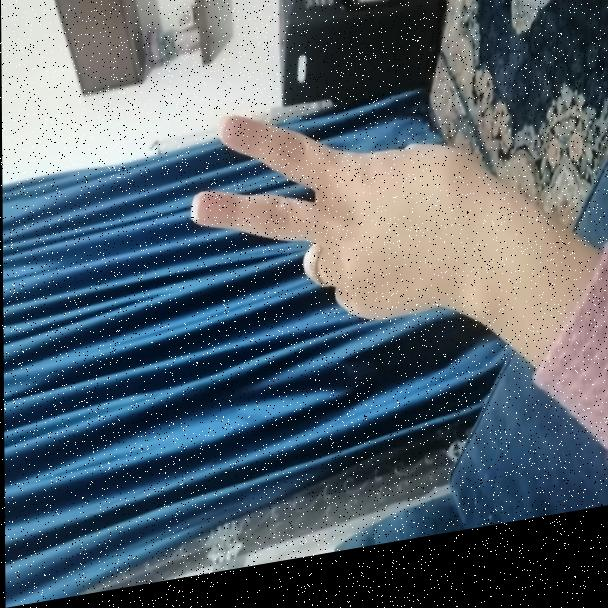two: (178, 78, 511, 368)
